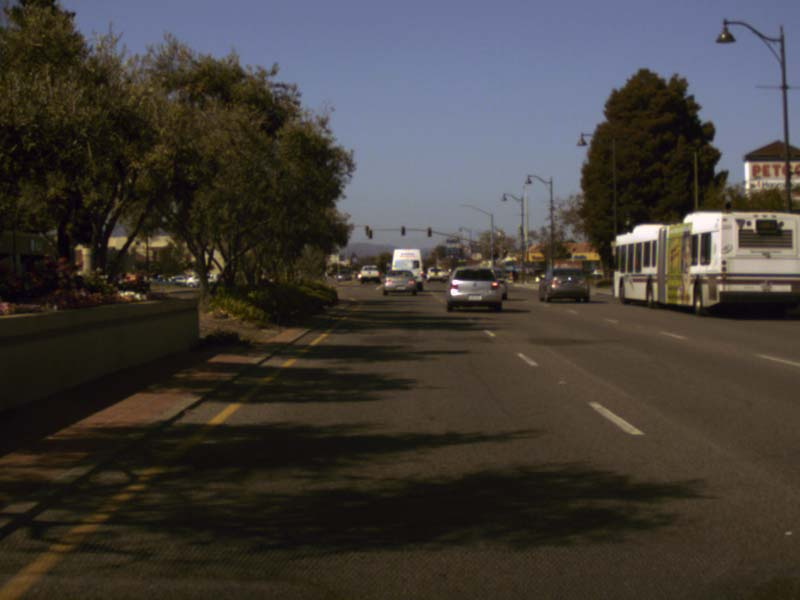Red: (501, 246, 505, 257)
